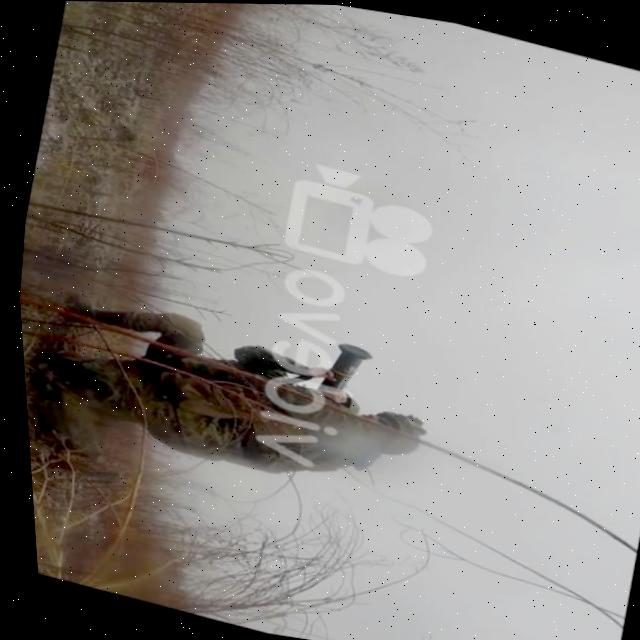rocket: (303, 336, 371, 401)
